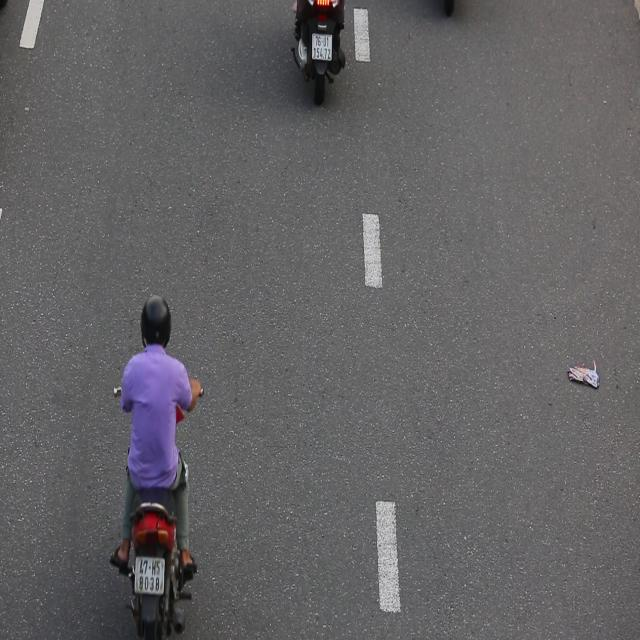motorbike: (105, 295, 207, 640)
